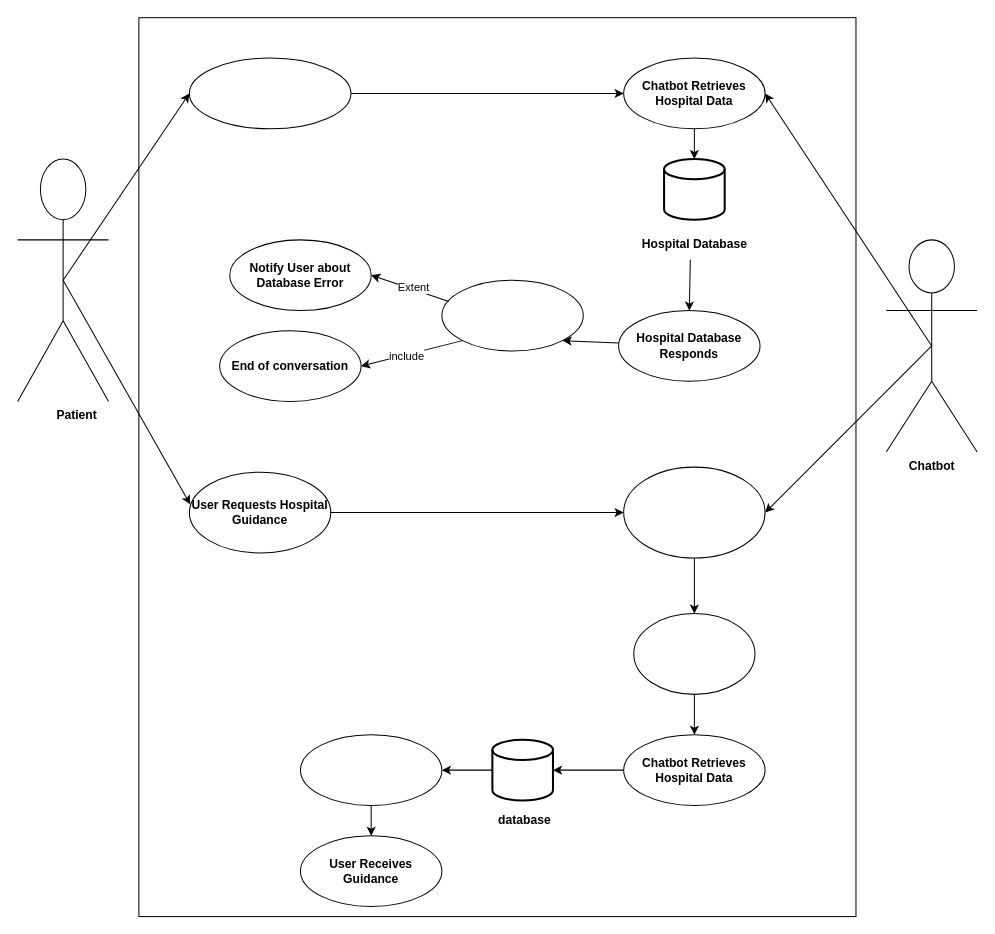
This 995x934 diagram has some shape labels left out. Each missing label, with the centre of its shape:
Chatbot Presents Hospital Information to patient: point (512, 315)
Chatbot Provides Hospital Information: point (370, 769)
Request his Location: point (694, 512)
User Provides Location: point (694, 653)
User Provides Symptoms: point (269, 93)
